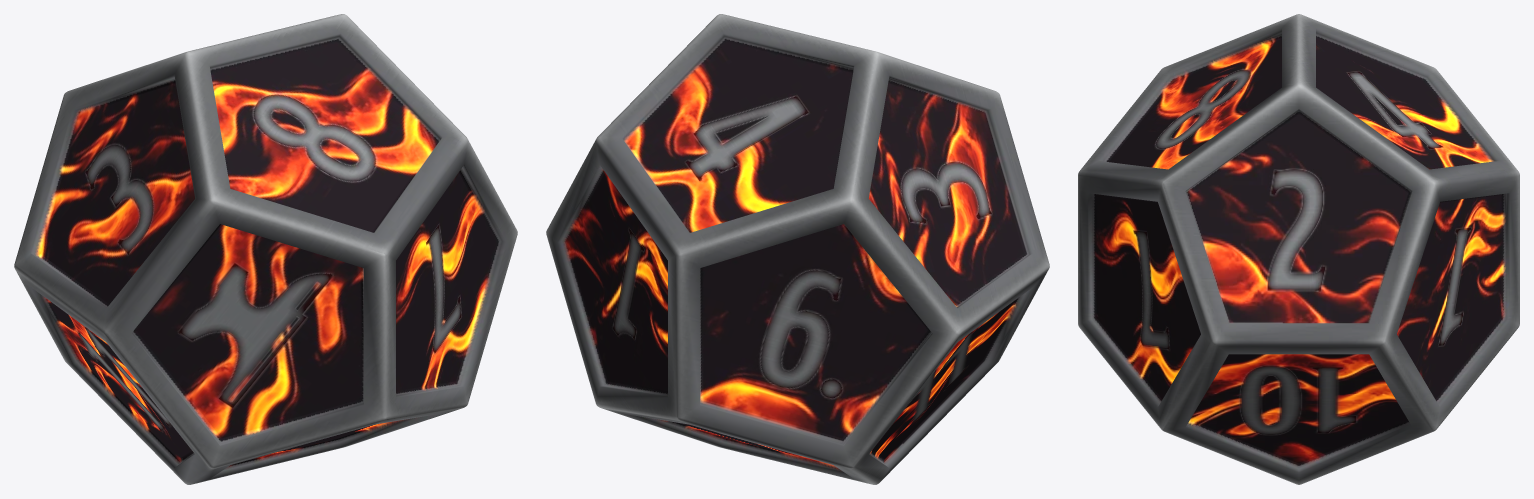
File: dice_12.gltf
The picture shows the model from 3 angles, left to right: view 1: azimuth 30°, elevation 25°; view 2: azimuth 150°, elevation 25°; view 3: azimuth 270°, elevation 25°; orthographic projection. The views are drawn at different scales.
Visible parts, largest first — view 1: dice_12; view 2: dice_12; view 3: dice_12.
Boxes of the visible parts, box(x1,y1,x2,y2) form: dice_12: box(14, 14, 517, 484); dice_12: box(546, 14, 1049, 484); dice_12: box(1078, 14, 1519, 484).
Bounding box in the file's own units: 167 × 167 × 167.
1 material, 1 textured.
